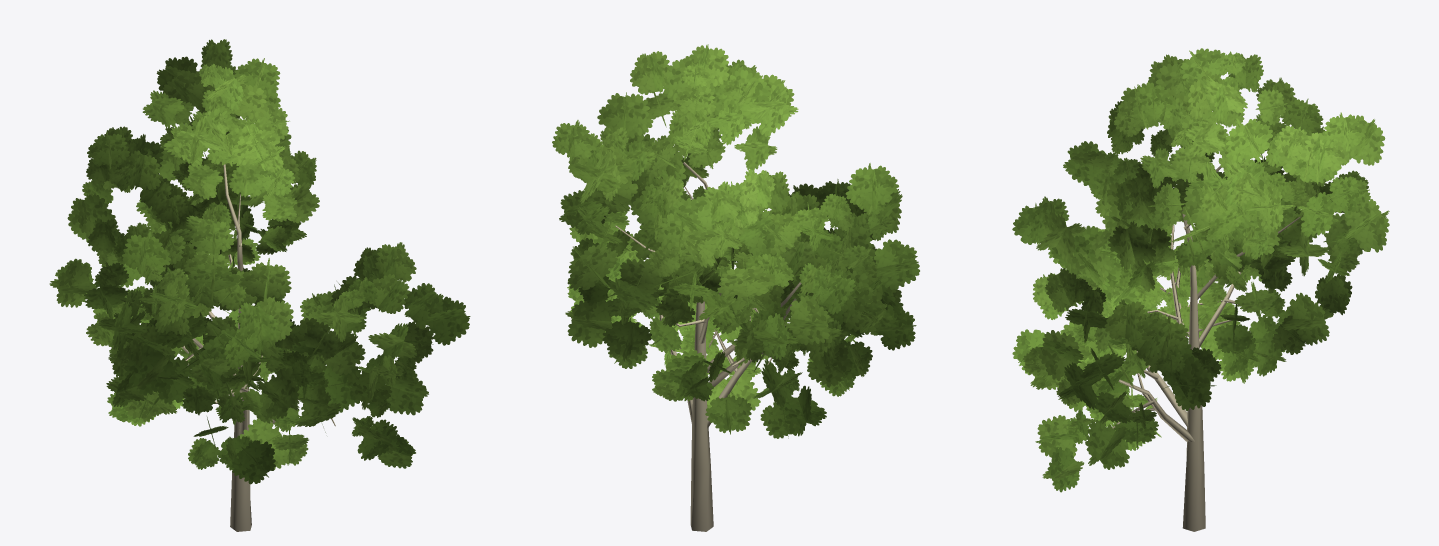
Rendered from platano-bajo.glb.
The picture shows the model from 3 angles, left to right: view 1: azimuth 30°, elevation 25°; view 2: azimuth 150°, elevation 25°; view 3: azimuth 270°, elevation 25°; orthographic projection. The views are drawn at different scales.
Parts seen in each view (by area): view 1: platano; view 2: platano; view 3: platano.
Part boxes in pixels (x1,y1,x2,y2): platano: (49, 39, 470, 531); platano: (552, 44, 919, 531); platano: (1012, 48, 1389, 531).
Size of the model in its own units: 12.03 by 13.94 by 11.14.
Materials: 2 (1 with a texture image).
